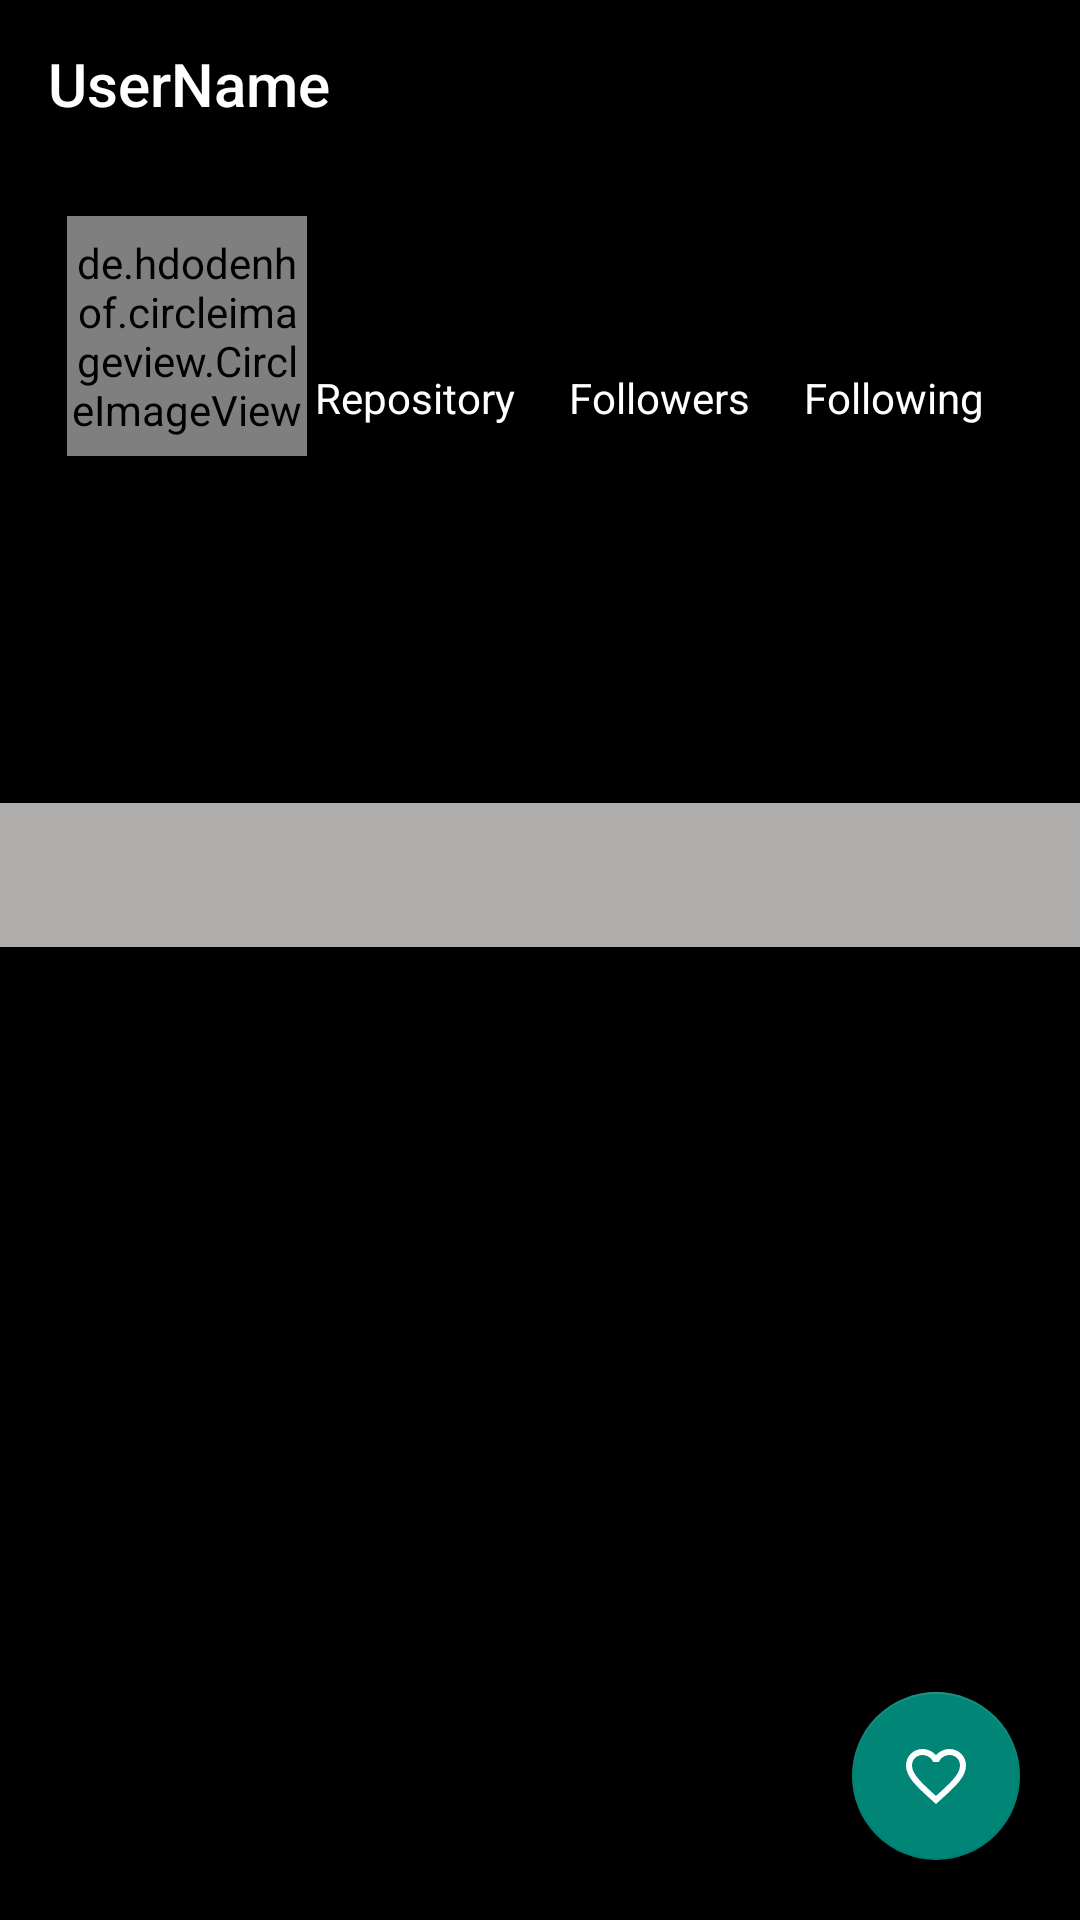

Icon bounding boxes for this 1080 x 1920 phone screenshot, format (x1, y1, x2, y2):
favorite border: (852, 1692, 1020, 1860)
